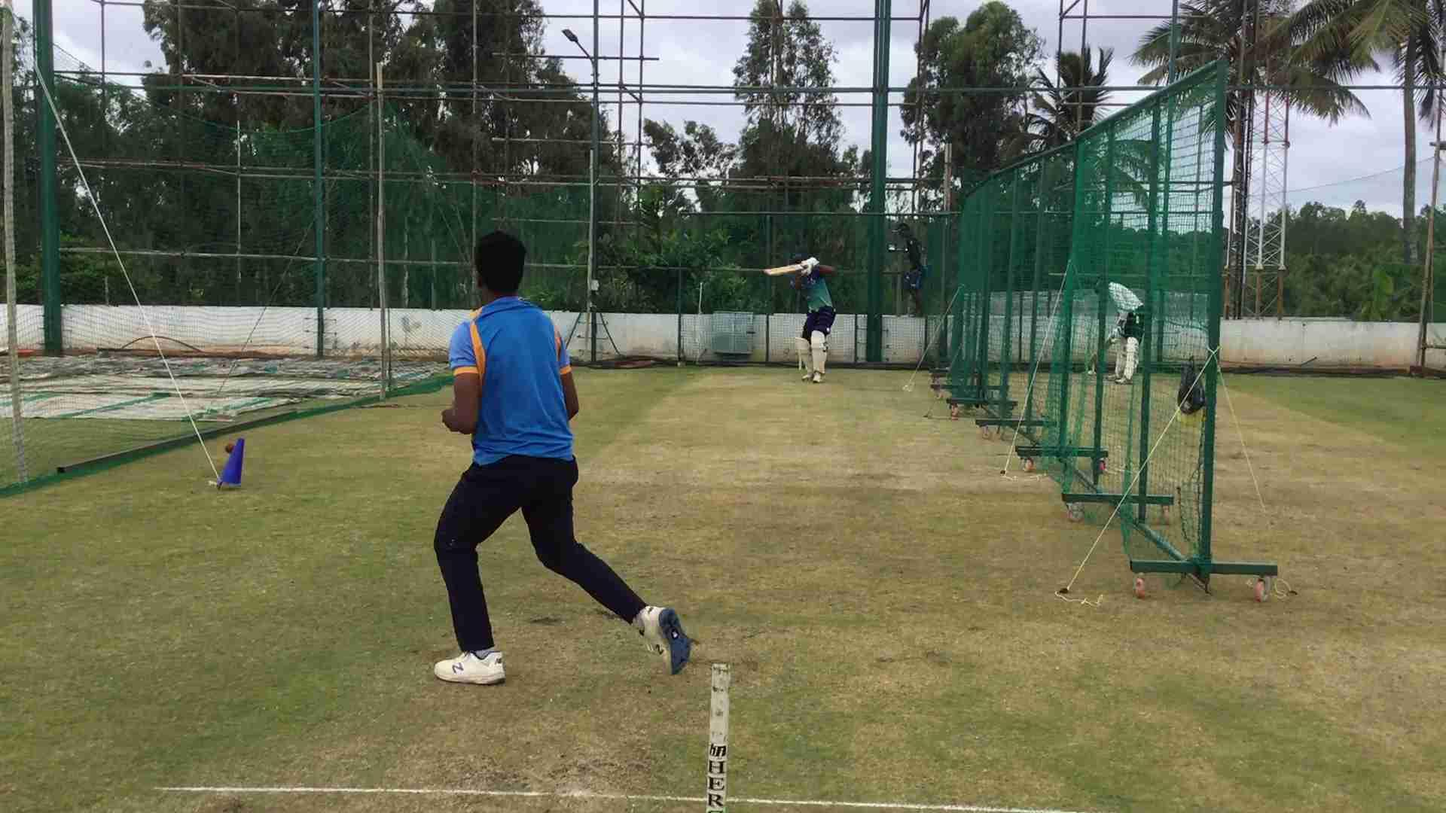batsman: (776, 254, 842, 389)
